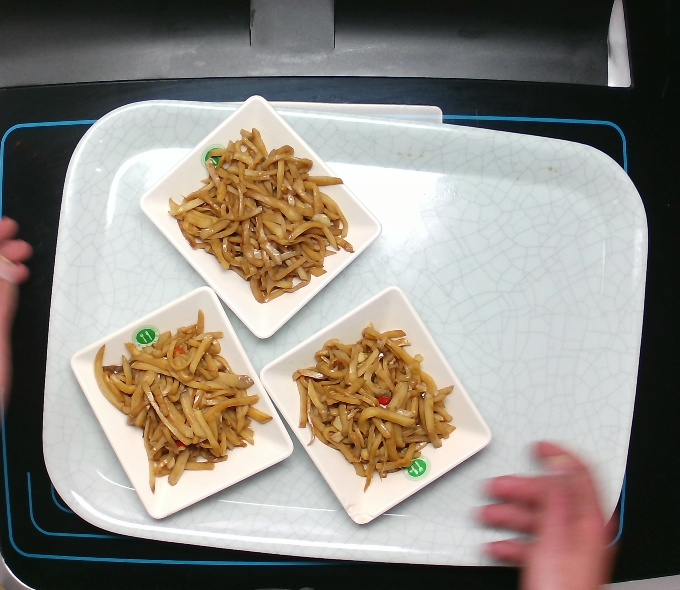wcq-LiangBanMoGu: (87, 306, 278, 501), (161, 123, 361, 306), (288, 317, 463, 498)
